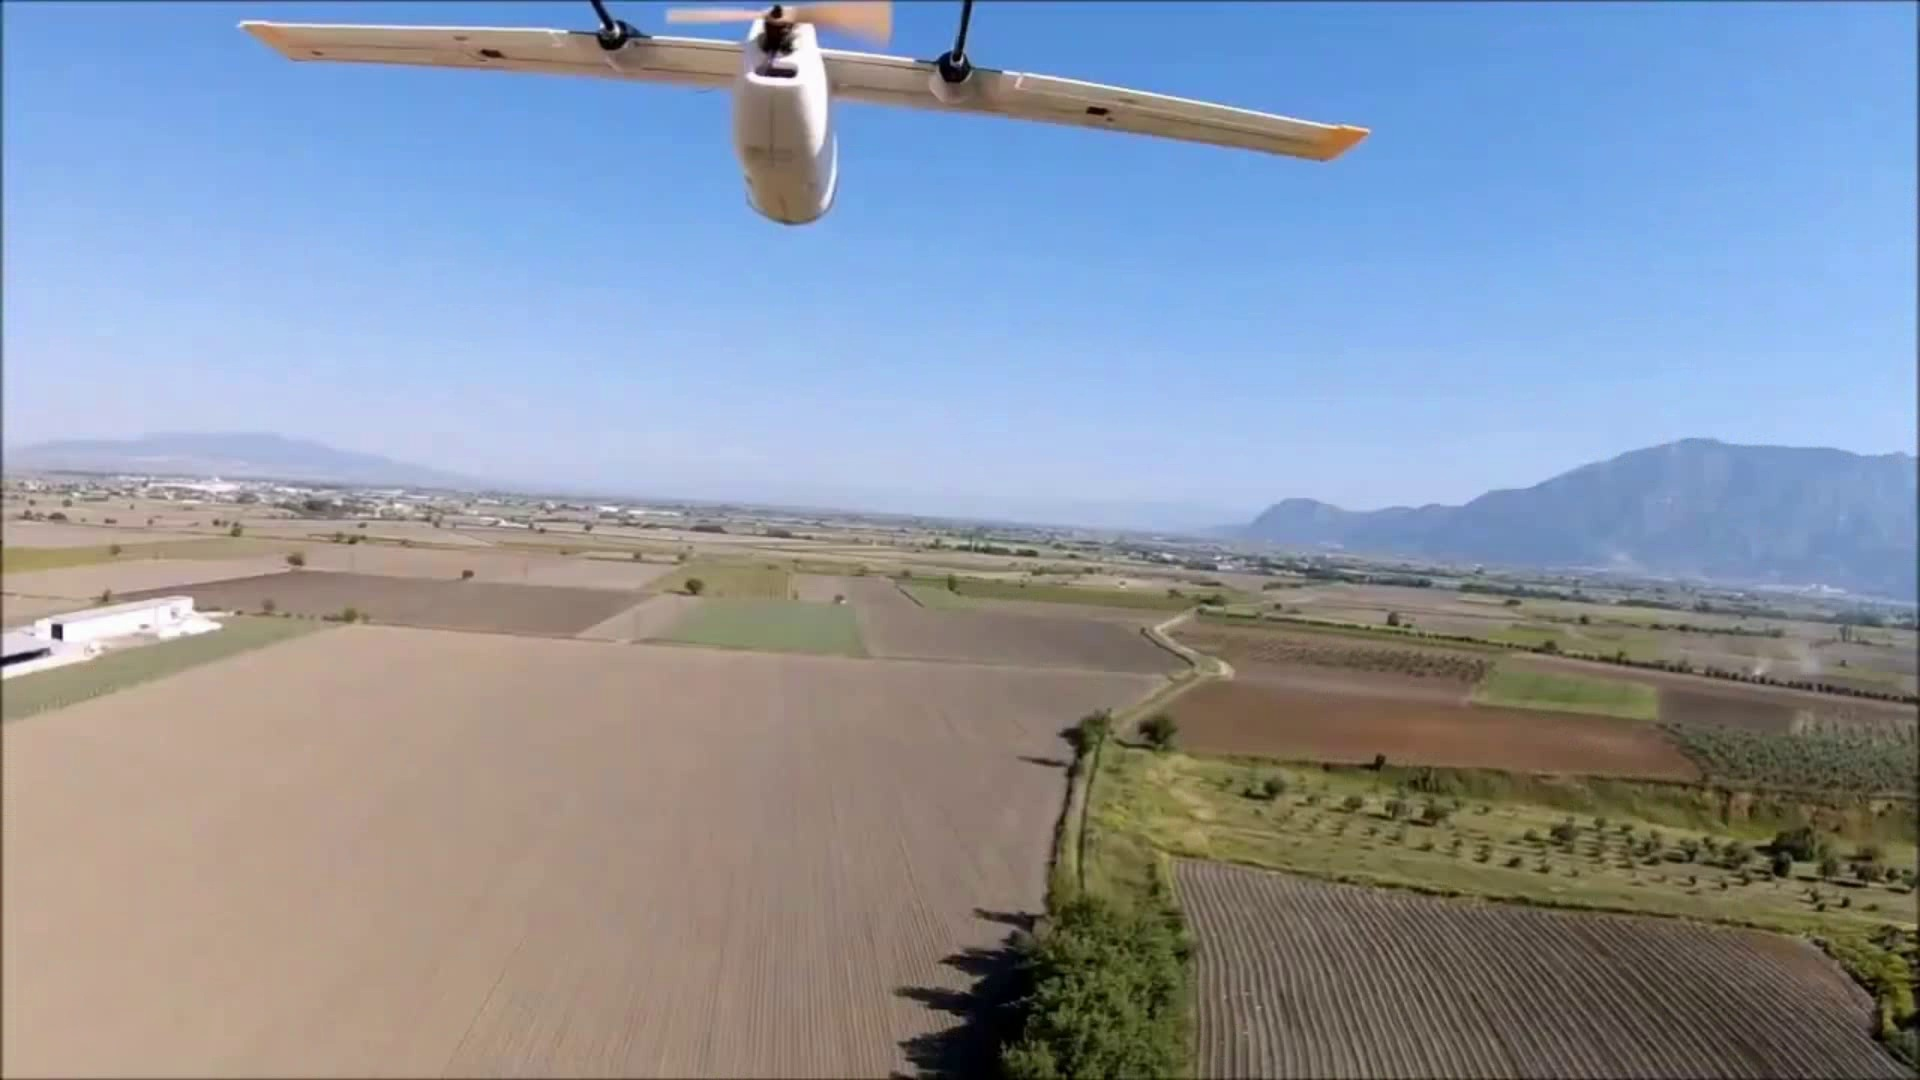airplane: (243, 4, 1365, 225)
